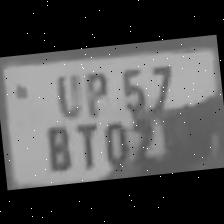0: (96, 113, 130, 169)
2: (126, 112, 160, 164)
5: (115, 63, 151, 116)
7: (142, 59, 176, 115)
B: (40, 117, 74, 173)
P: (78, 65, 114, 118)
T: (68, 116, 100, 172)
U: (48, 67, 82, 118)
